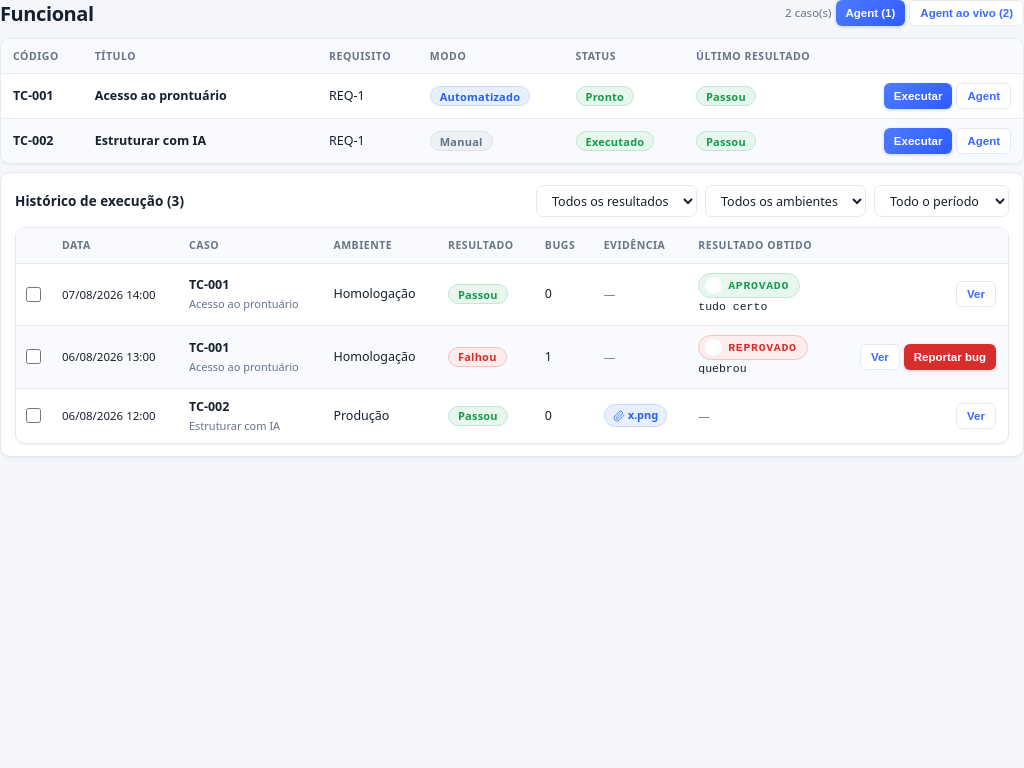
Execution — comparador › seleciona duas execuções do mesmo caso e abre o diff
What coordinates should you click on to do the following:
click the checkbox named "Selecionar execução 340 para comparar"
I would click on:
 (34, 294)
Its box is [26, 287, 41, 302].
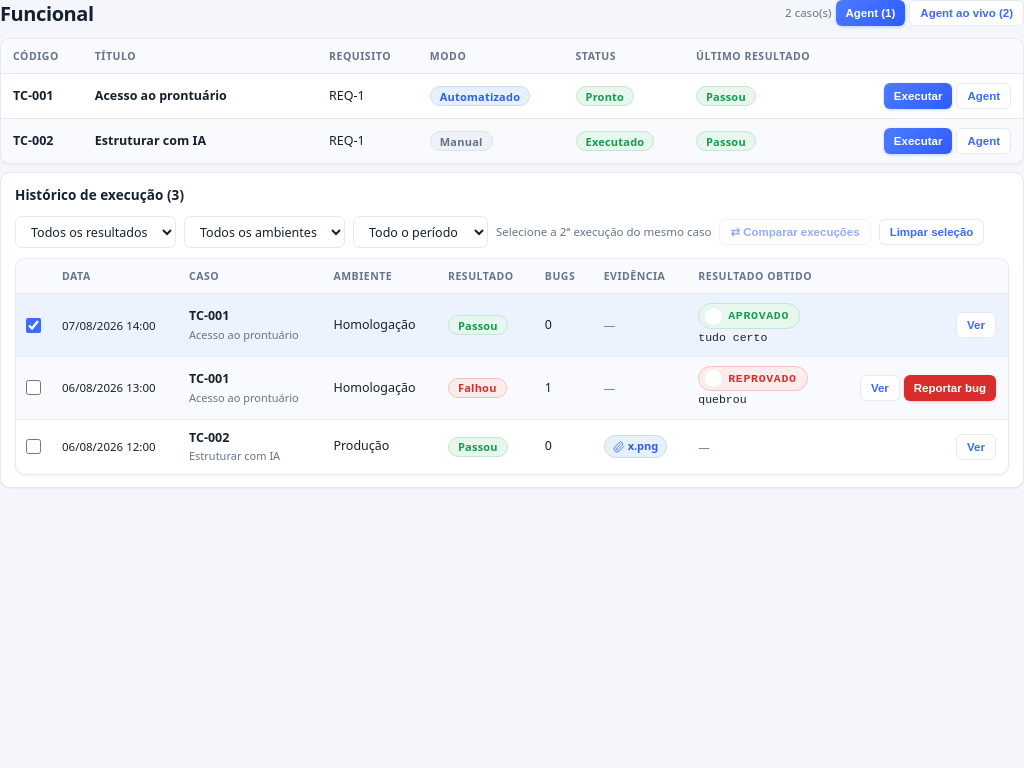
What coordinates should you click on to do the following:
click the checkbox named "Selecionar execução 337 para comparar"
I would click on:
 (34, 388)
Its box is [26, 380, 41, 395].
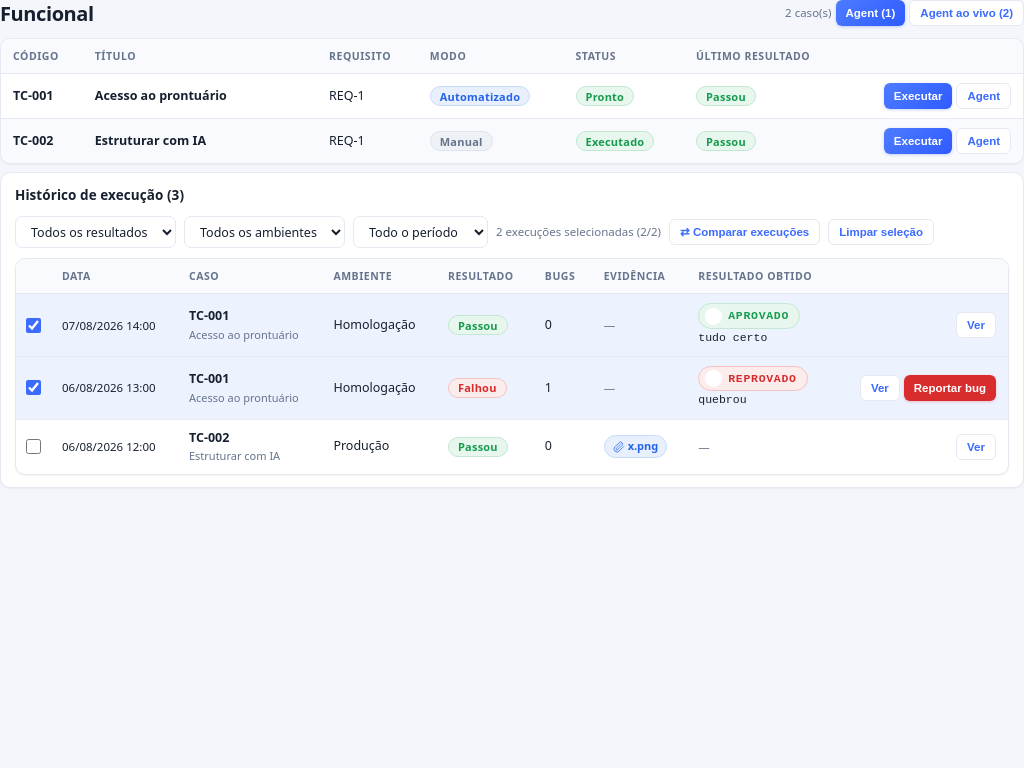
What coordinates should you click on to do the following:
click the button "⇄ Comparar execuções"
I would click on:
 (745, 232)
Its box is [669, 219, 820, 245].
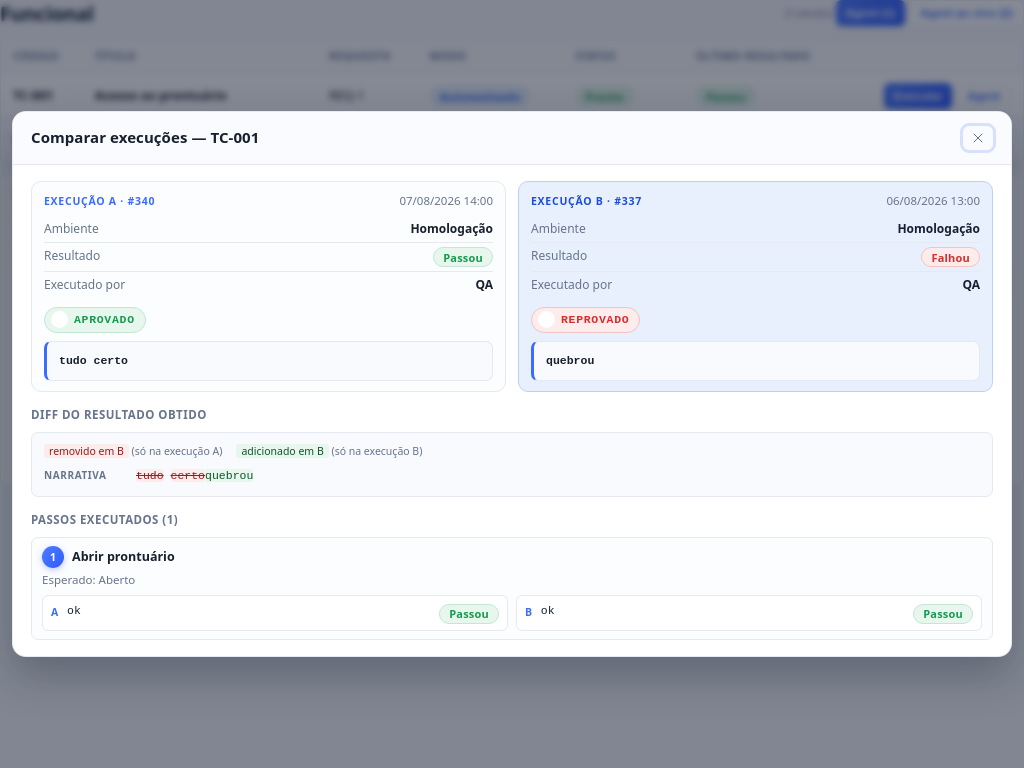
Check: the heading "Comparar execuções — TC-001" is shown, box [31, 126, 259, 150]
Check: the text "Execução A · #340" is shown, box [44, 193, 155, 209]
Check: the text "Execução B · #337" is shown, box [531, 193, 642, 209]
